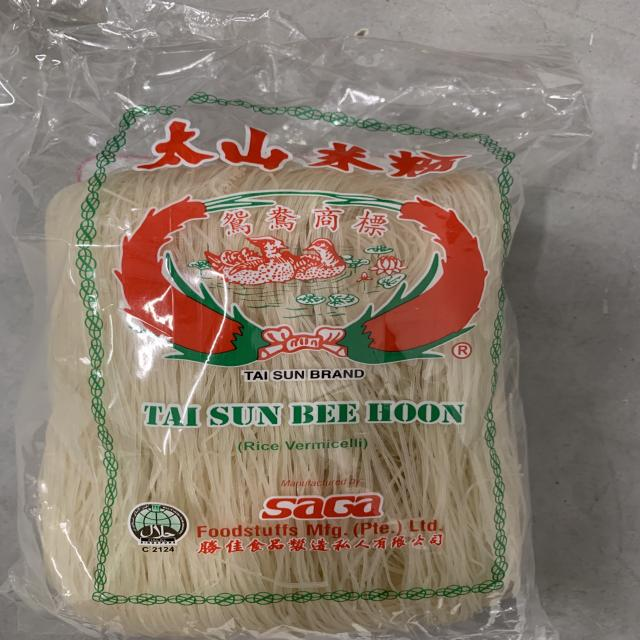object_name: (38, 71, 521, 640)
